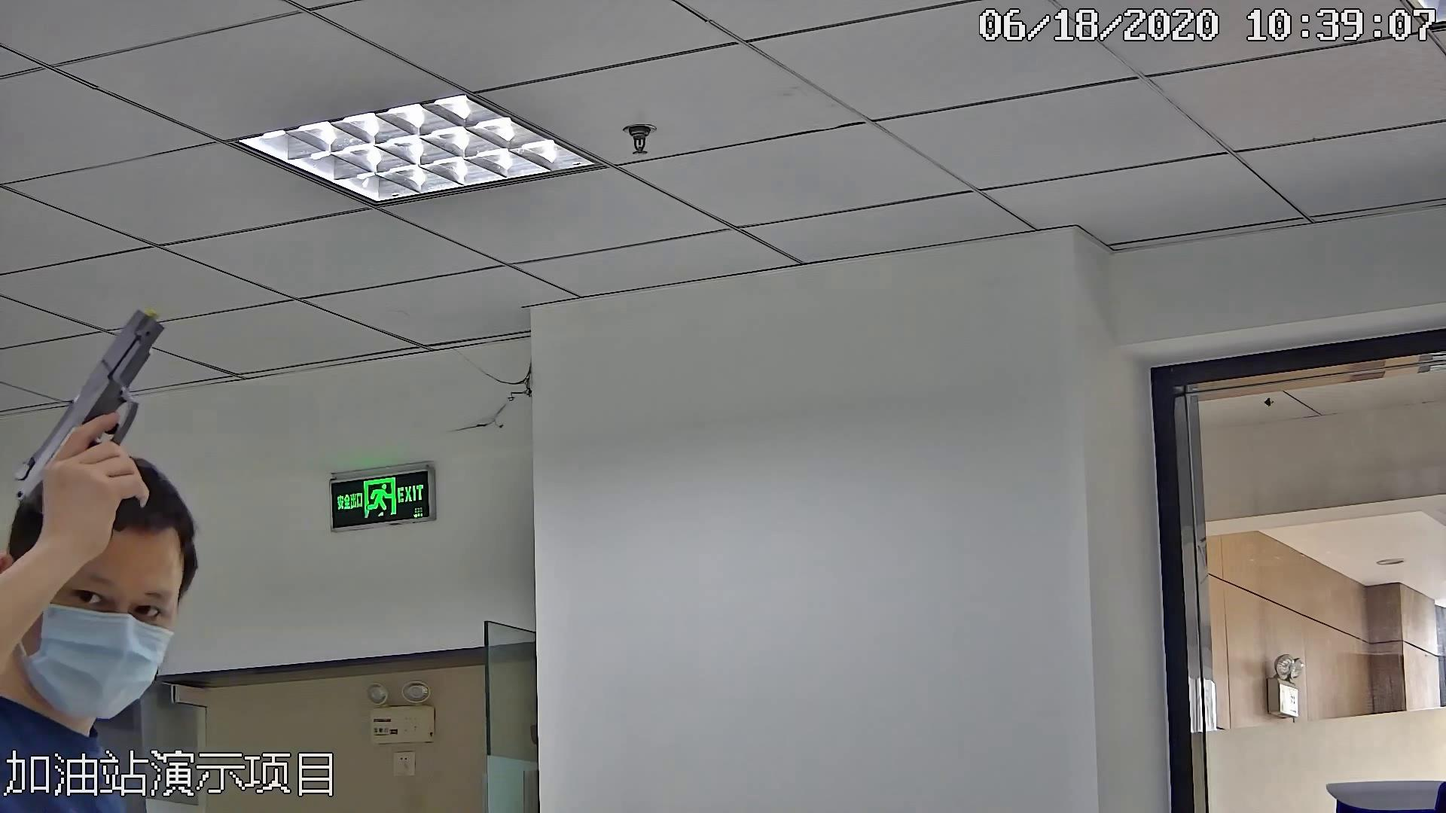gun: (14, 315, 169, 547)
